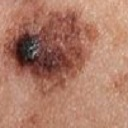Melanoma: (12, 17, 72, 74)
